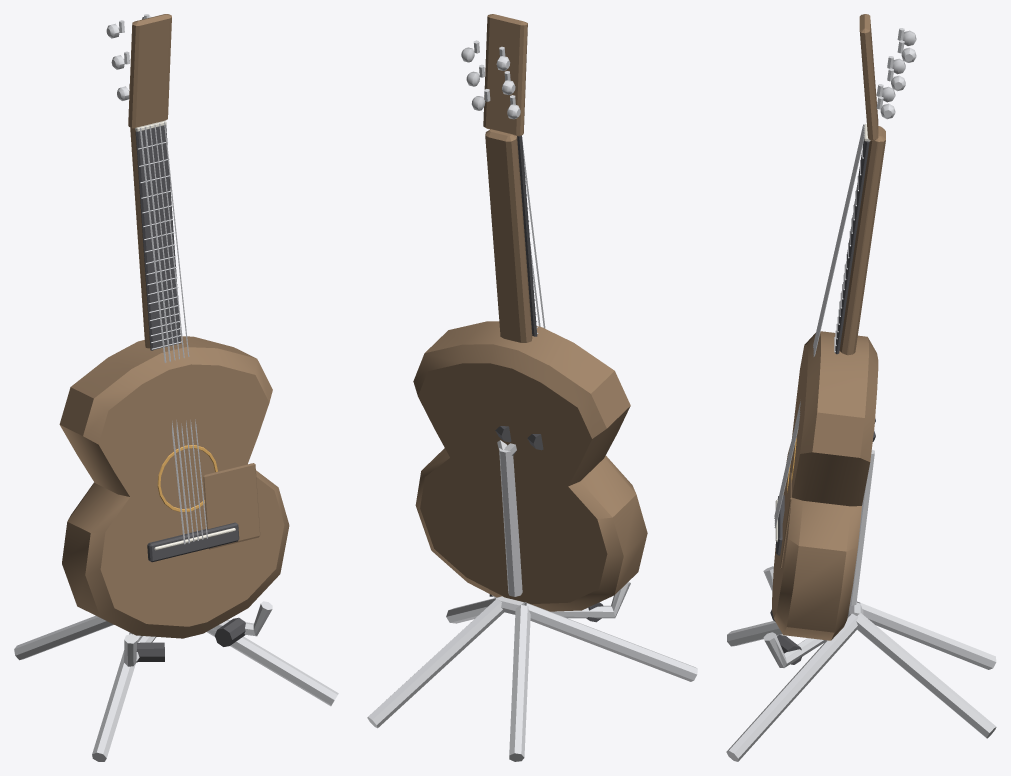
Rendered from acoustic-v2.glb.
3 views of the same model, side by side, from view 1: azimuth 30°, elevation 25°; view 2: azimuth 150°, elevation 25°; view 3: azimuth 270°, elevation 25° (orthographic).
Parts seen in each view (by area): view 1: acoustic-guitar-on-stand; view 2: acoustic-guitar-on-stand; view 3: acoustic-guitar-on-stand.
Part boxes in pixels (left/top/right/bottom): acoustic-guitar-on-stand: left=14, top=14, right=338, bottom=761; acoustic-guitar-on-stand: left=367, top=14, right=697, bottom=761; acoustic-guitar-on-stand: left=726, top=14, right=996, bottom=761.
Size of the model in its own units: 0.4691 by 1.22 by 0.4386.
